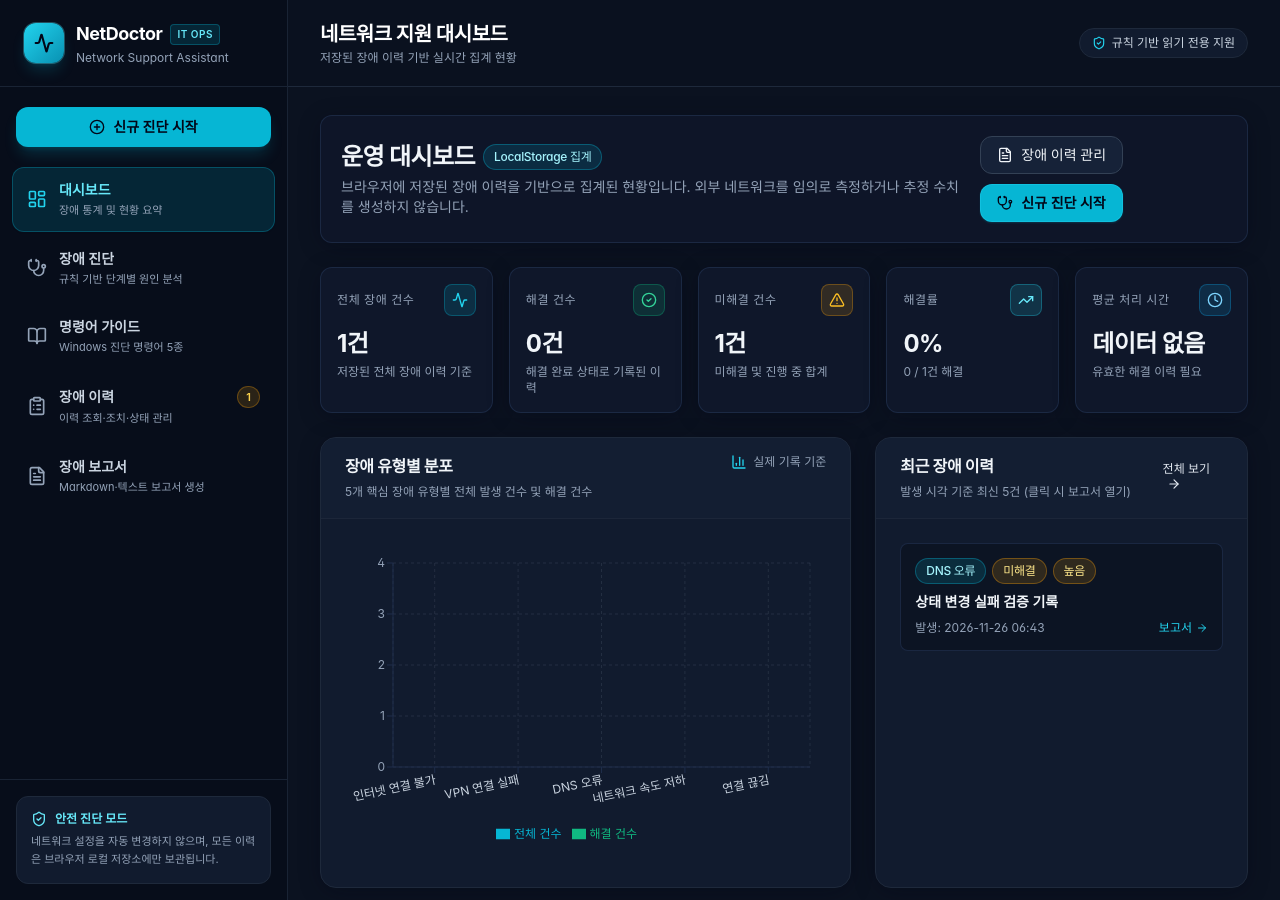
it: LocalStorage failure resilience & error UX › UI integration tests under QuotaExceededError › HistoryPage: edit modal and quick status toggle fail cleanly on QuotaExceededError, show error alert, and preserve status
Click the button "장애 이력 1 이력 조회·조치·상태 관리". click: (87, 396)
box: [12,372,275,440]
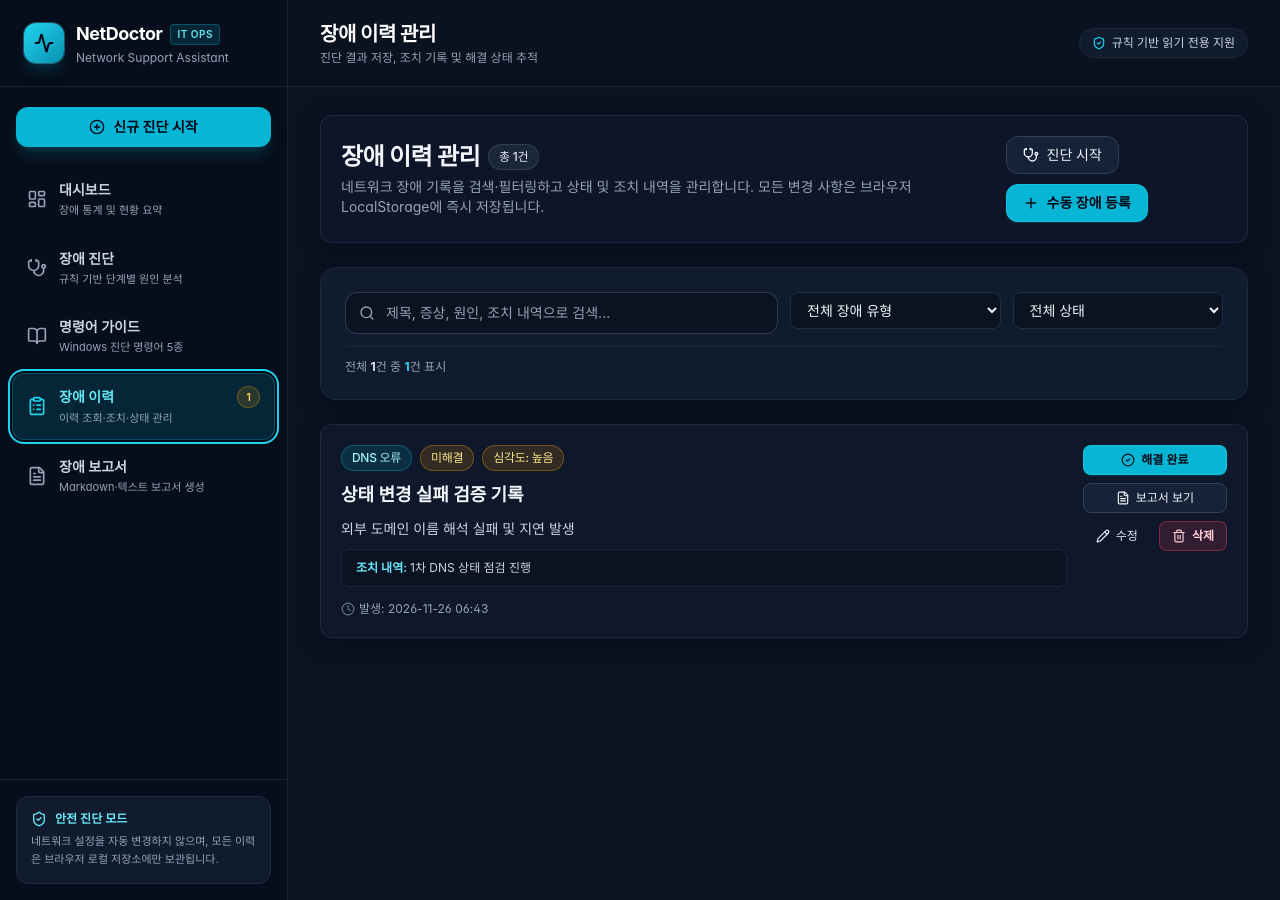
Quick status toggle ('해결 완료') fails cleanly
Click the button "해결 완료". click: (1155, 460)
box: [1083,445,1227,475]
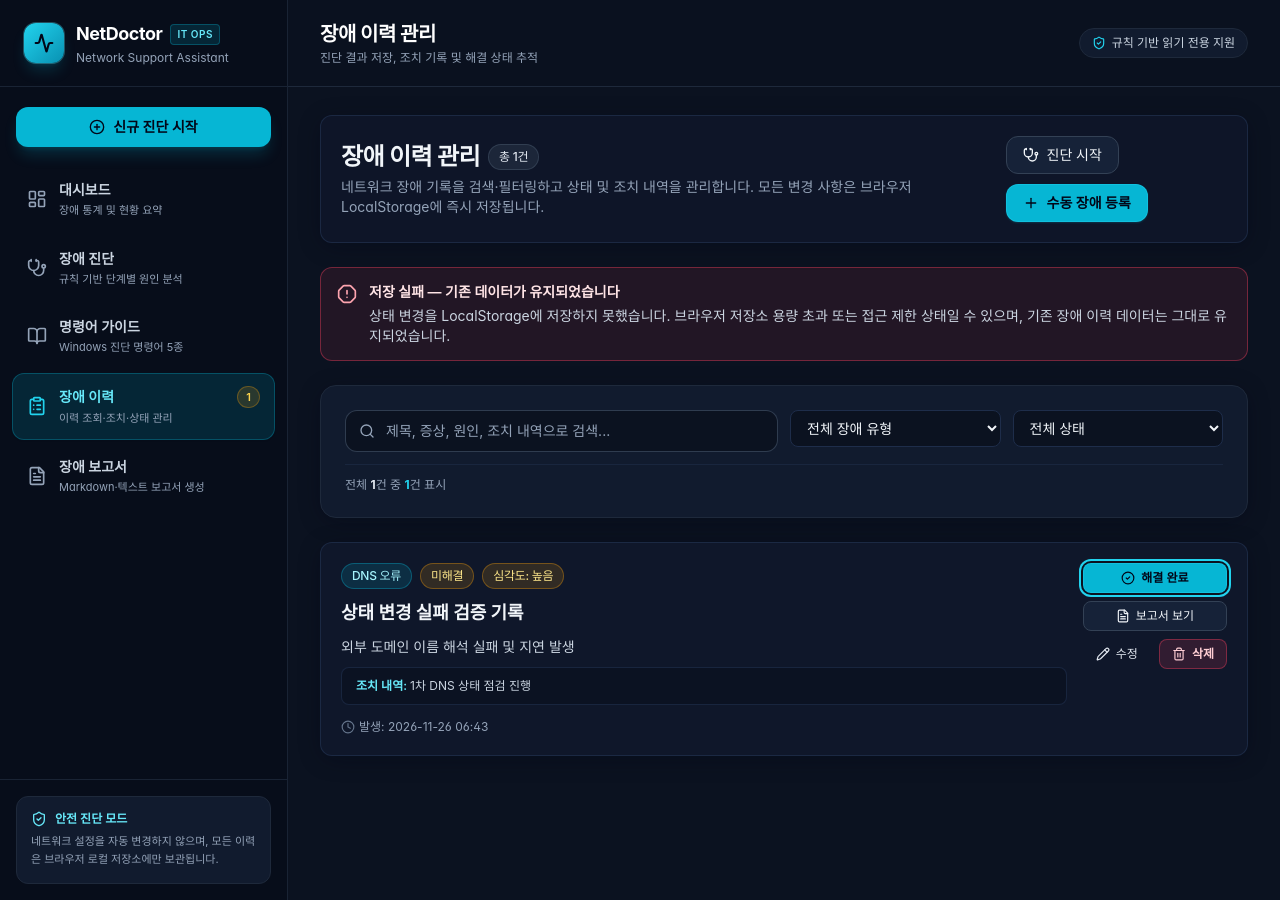
Check: the message shows "저장 실패", box [369,283,620,300]
Check: the message shows "LocalStorage", box [369,307,1227,344]
Check: the message shows "기존 장애 이력 데이터는 그대로 유지", box [369,307,1227,344]
Edit modal fails cleanly and stays open with error alert
Click the button "수정". click: (1117, 654)
box: [1083,639,1151,669]
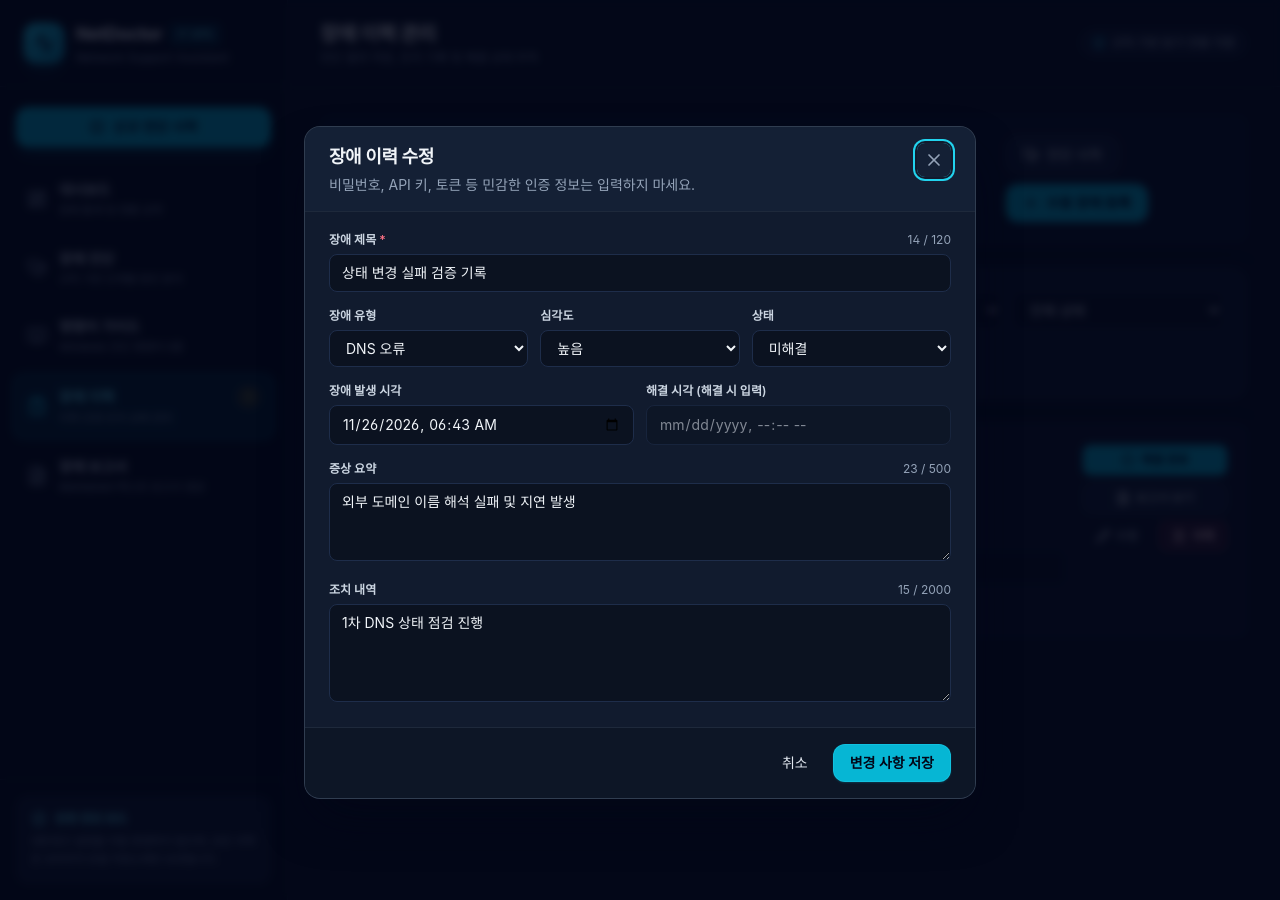
Replace the text in the field labelled "장애 제목 *" with "수정 실패 예정 제목". click: (640, 272)
box: [329,254,951,292]
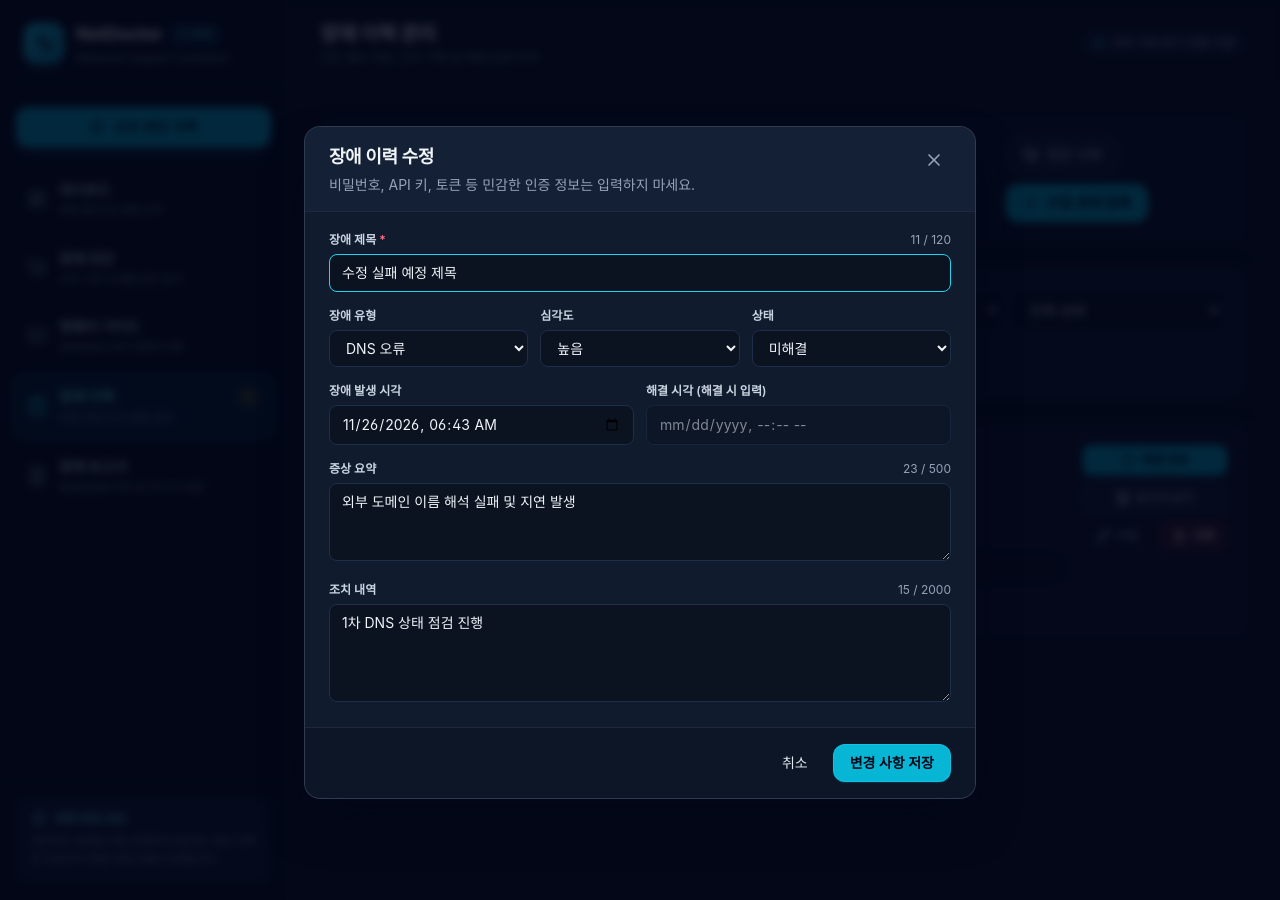
Click the button "변경 사항 저장". click: (892, 762)
box: [833,744,951,782]
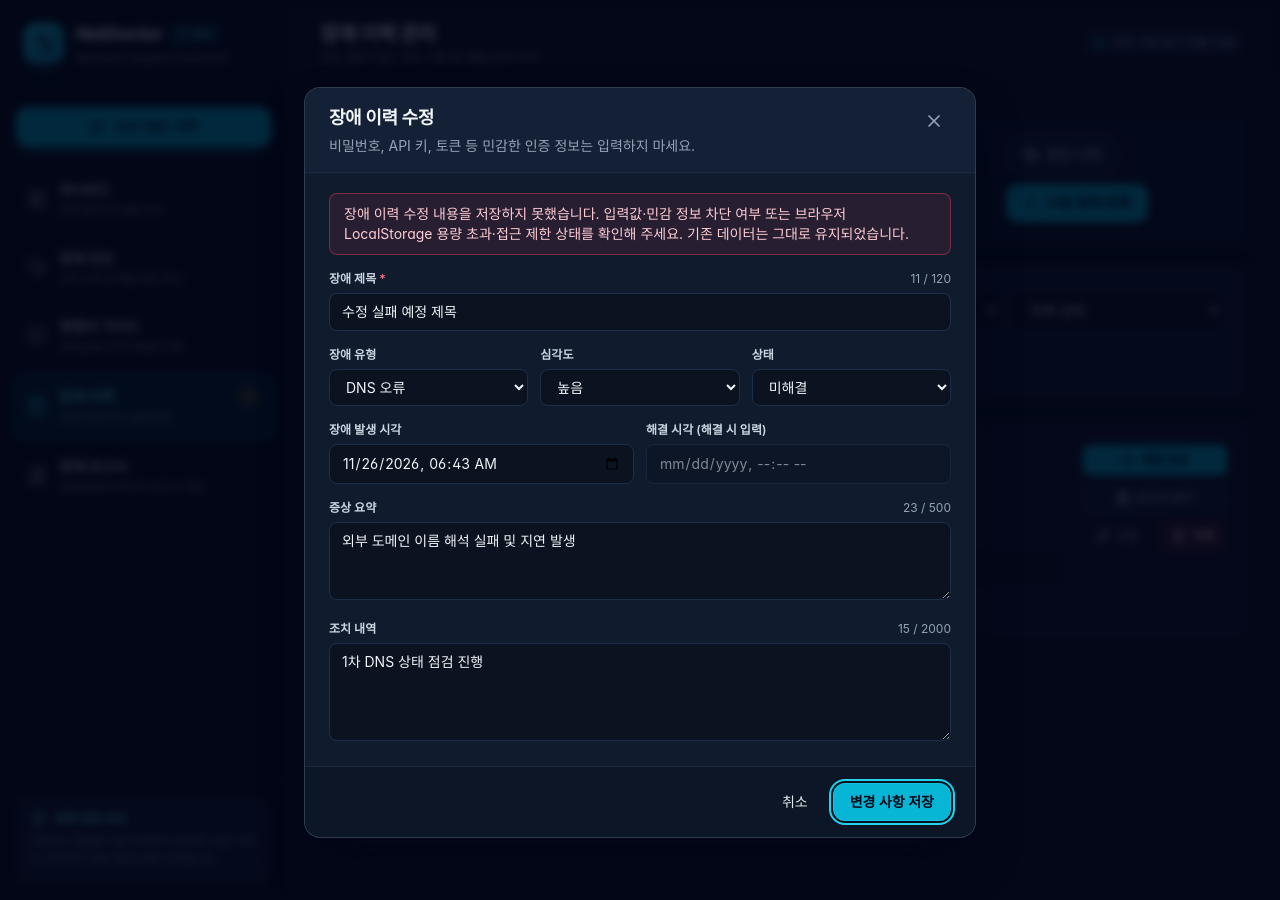
Check: the dialog is shown, box [304,86,976,838]
Check: the message shows "수정 내용을 저장하지 못했습니다", box [344,204,909,242]
Check: the message shows "LocalStorage", box [344,204,909,242]
